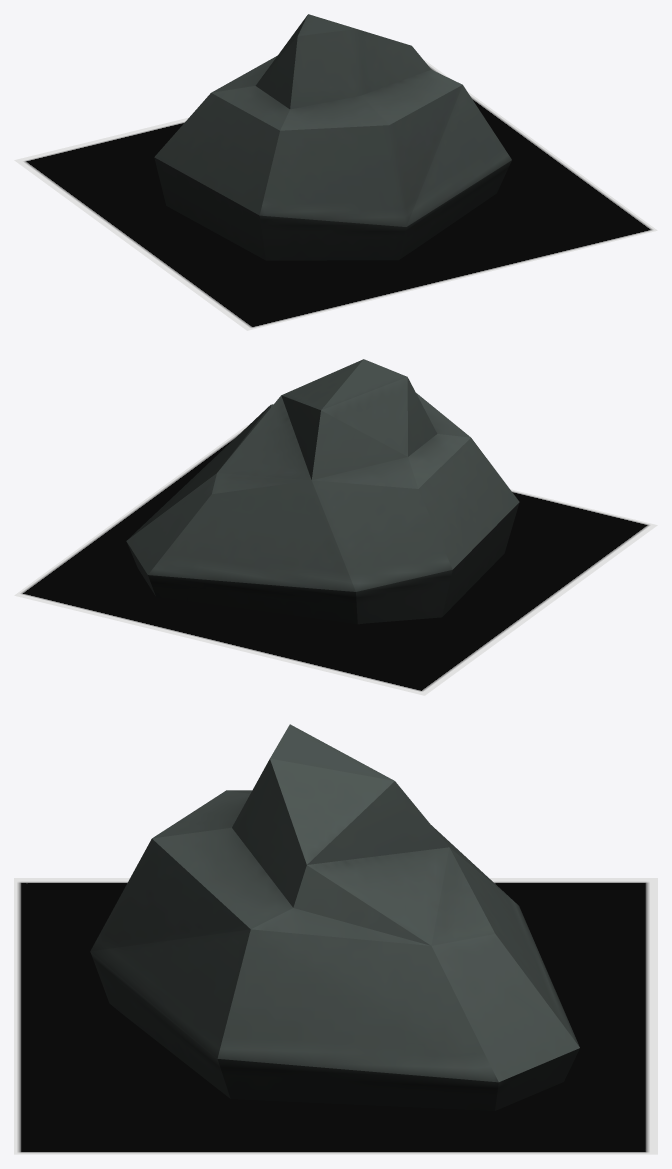
Rendered from 1x1_rock.FBX.
3 views of the same model, one above another, from view 1: azimuth 30°, elevation 25°; view 2: azimuth 150°, elevation 25°; view 3: azimuth 270°, elevation 25° (orthographic). The views are drawn at different scales.
Parts seen in each view (by area): view 1: 1x1_rock, 1x1_rock_soft_shadow; view 2: 1x1_rock, 1x1_rock_soft_shadow; view 3: 1x1_rock, 1x1_rock_soft_shadow.
Part boxes in pixels (x1,y1,x2,y2): 1x1_rock: (154,14,511,260); 1x1_rock_soft_shadow: (14,60,657,330); 1x1_rock: (126,359,519,624); 1x1_rock_soft_shadow: (14,425,657,695); 1x1_rock: (90,724,579,1110); 1x1_rock_soft_shadow: (14,878,657,1154).
Bounding box in the file's own units: 1266 × 557 × 1244.
